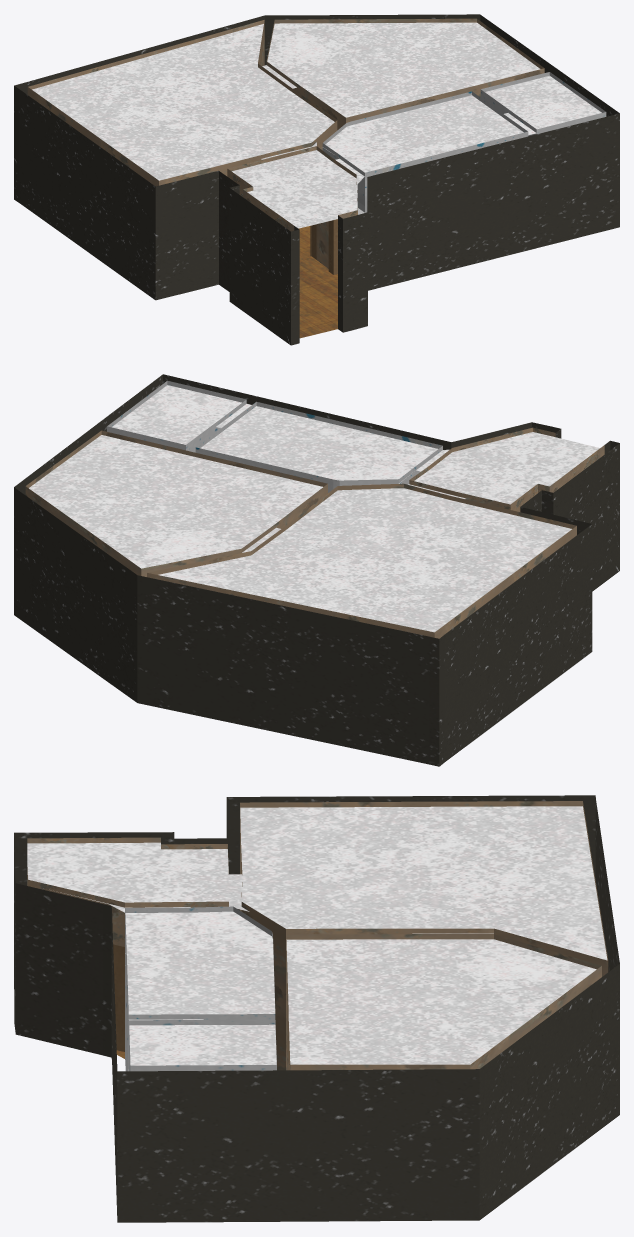
File: 3D Hub.obj
3 views of the same model, one above another, from view 1: azimuth 30°, elevation 25°; view 2: azimuth 150°, elevation 25°; view 3: azimuth 270°, elevation 25° (orthographic). The views are drawn at different scales.
Parts seen in each view (by area): view 1: Hub.001; view 2: Hub.001; view 3: Hub.001.
Part boxes in pixels (x1,y1,x2,y2): Hub.001: (14,14,619,345); Hub.001: (14,374,619,766); Hub.001: (14,795,619,1222).
Size of the model in its own units: 18.56 by 4.76 by 17.21.
